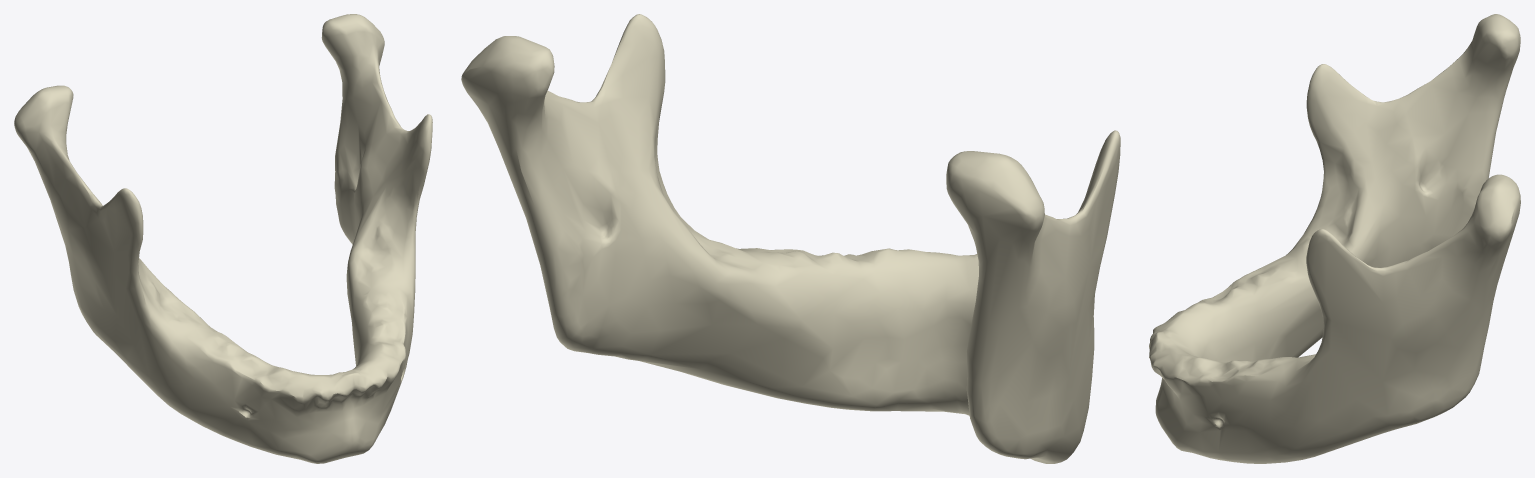
File: mandible.glb
The picture shows the model from 3 angles, left to right: view 1: azimuth 30°, elevation 25°; view 2: azimuth 150°, elevation 25°; view 3: azimuth 270°, elevation 25°; orthographic projection. The views are drawn at different scales.
Visible parts, largest first — view 1: grp1; view 2: grp1; view 3: grp1.
Part boxes in pixels (x1,y1,x2,y2): grp1: [14, 14, 432, 463]; grp1: [461, 14, 1120, 463]; grp1: [1149, 14, 1520, 463].
Bounding box in the file's own units: 0.1064 × 0.0845 × 0.084.
